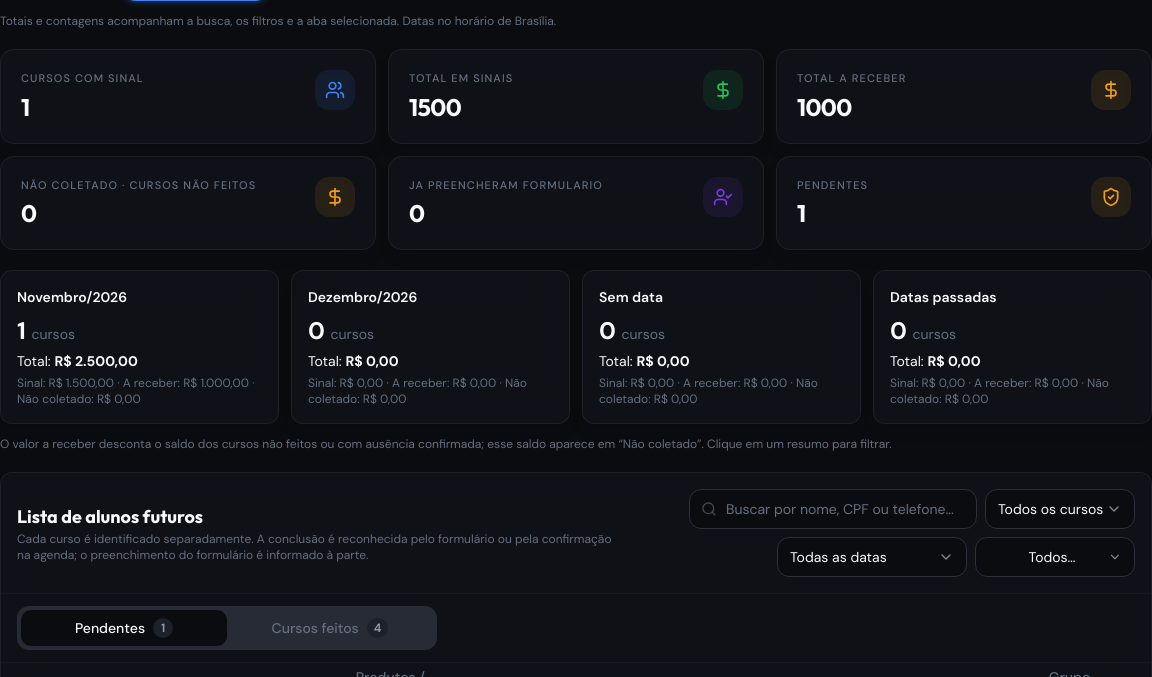
Test: keeps searches, completed tab counts and undated/past categories consistent
Step 1. Press the mouse on the tab "Cursos feitos 4" → (330,628), box [227,610,433,646]
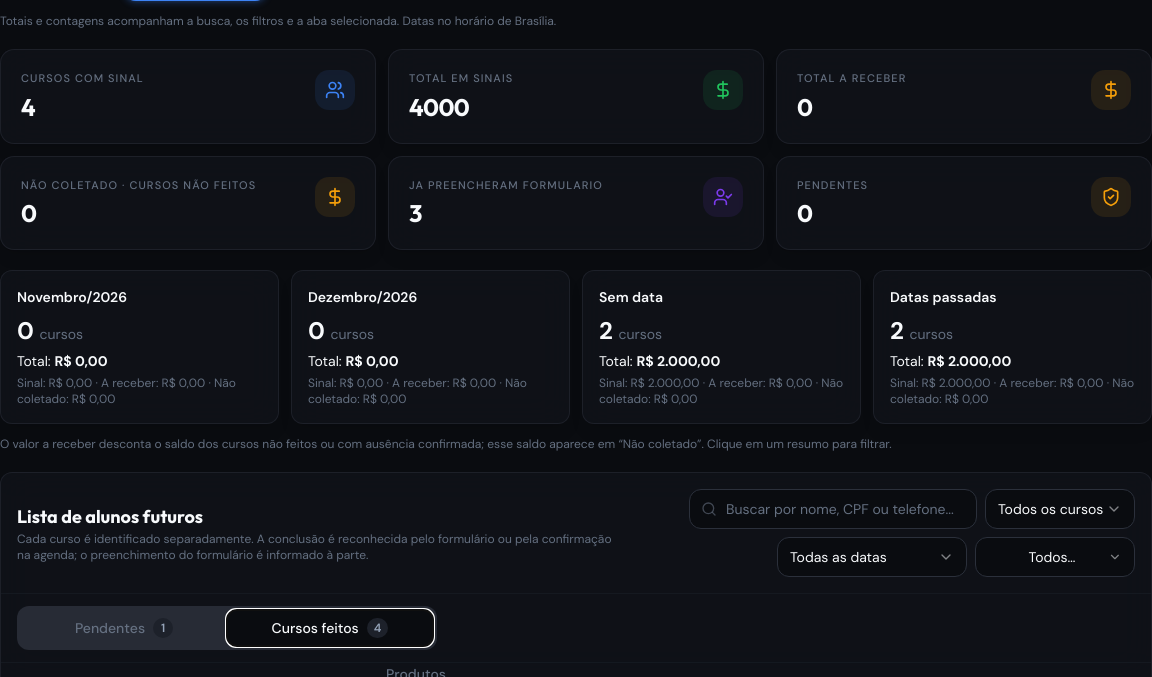
Result: the button "Datas passadas" shows "2 cursos" at [873,270,1151,424]
Result: the button "Sem data" shows "2 cursos"
Step 2. Click the button "Sem data" → (631,297), box [582,270,861,424]
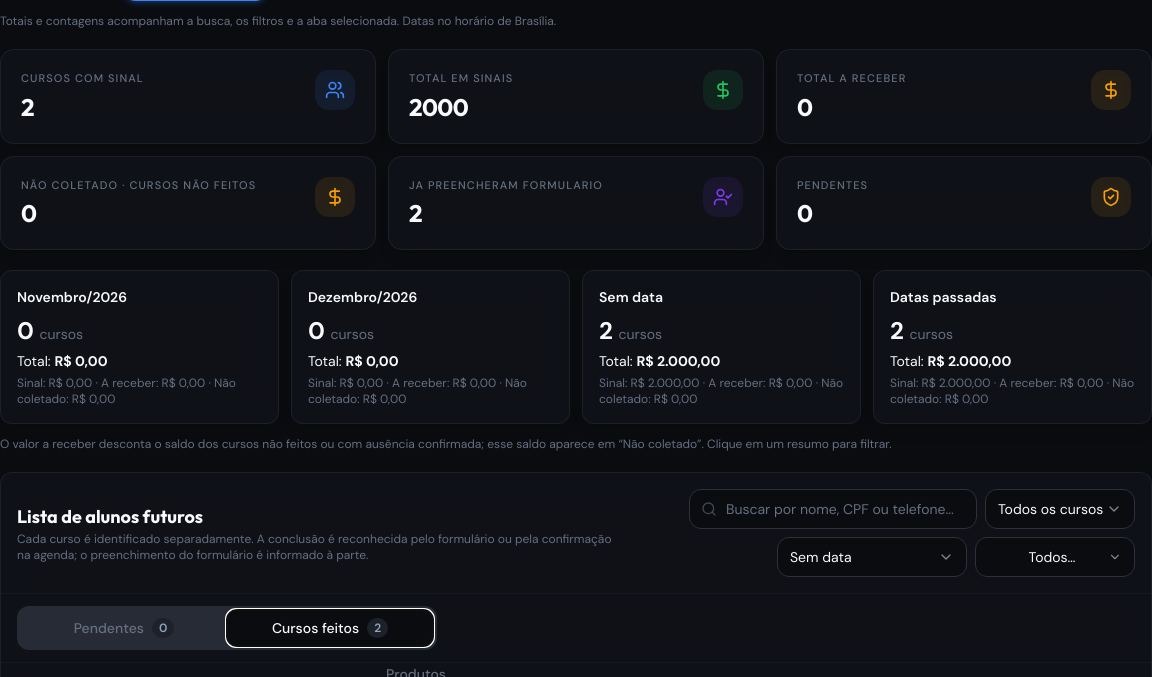
Step 3. Type "Damaris" into the field with placeholder "Buscar por nome, CPF ou telefone..." → (833,509), box [689,489,977,529]
(page scrolled)
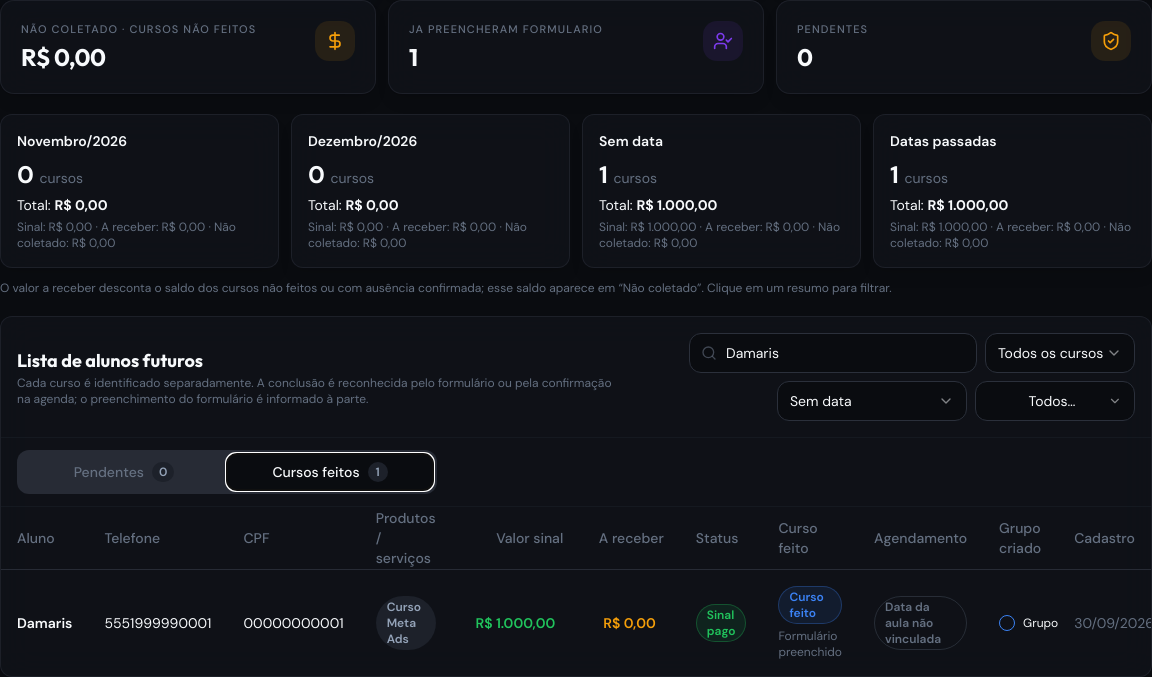
Result: the tab "Pendentes 0" is shown at [21,454,227,490]
Result: the text "Damaris" is shown at [1,570,88,676]
Result: the tab "Cursos feitos 1" is shown at [227,454,433,490]
